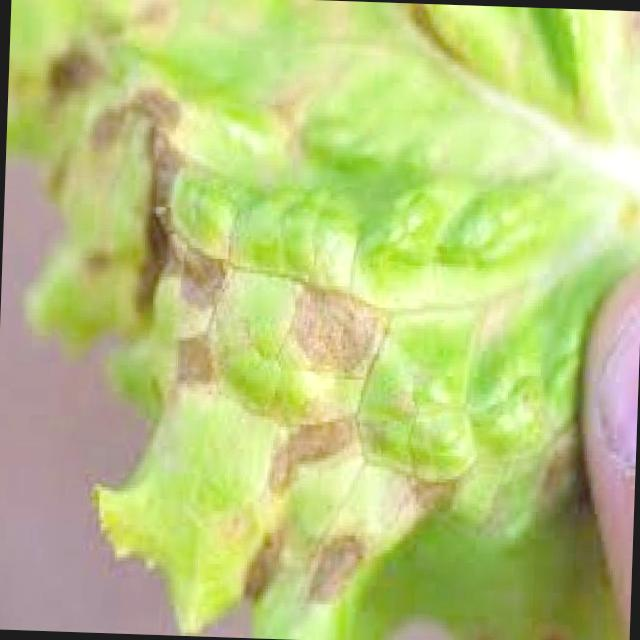Septoria_Blight: (87, 43, 572, 614)
